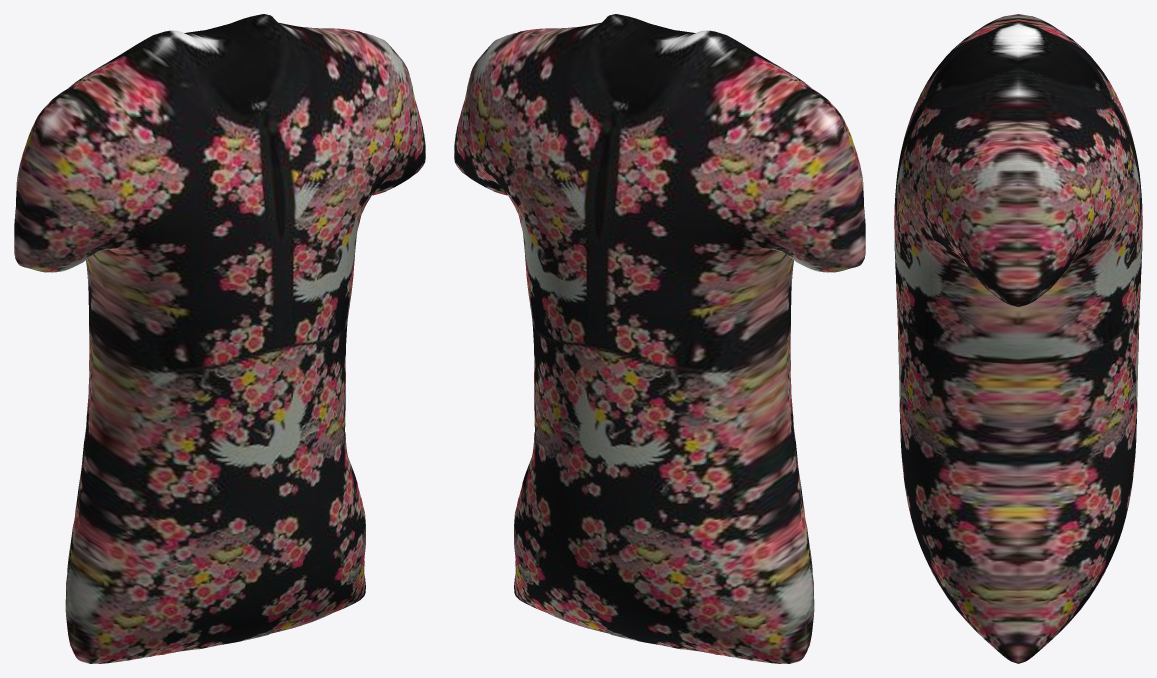
File: 4VI21D02A-Q11@12.1=cloth_front.glb
3 renders of one model, left to right at view 1: azimuth 30°, elevation 25°; view 2: azimuth 150°, elevation 25°; view 3: azimuth 270°, elevation 25°, orthographic. The views are drawn at different scales.
Size of the model in its own units: 4.16 by 5.98 by 2.4.
Materials: 1 (1 with a texture image).
